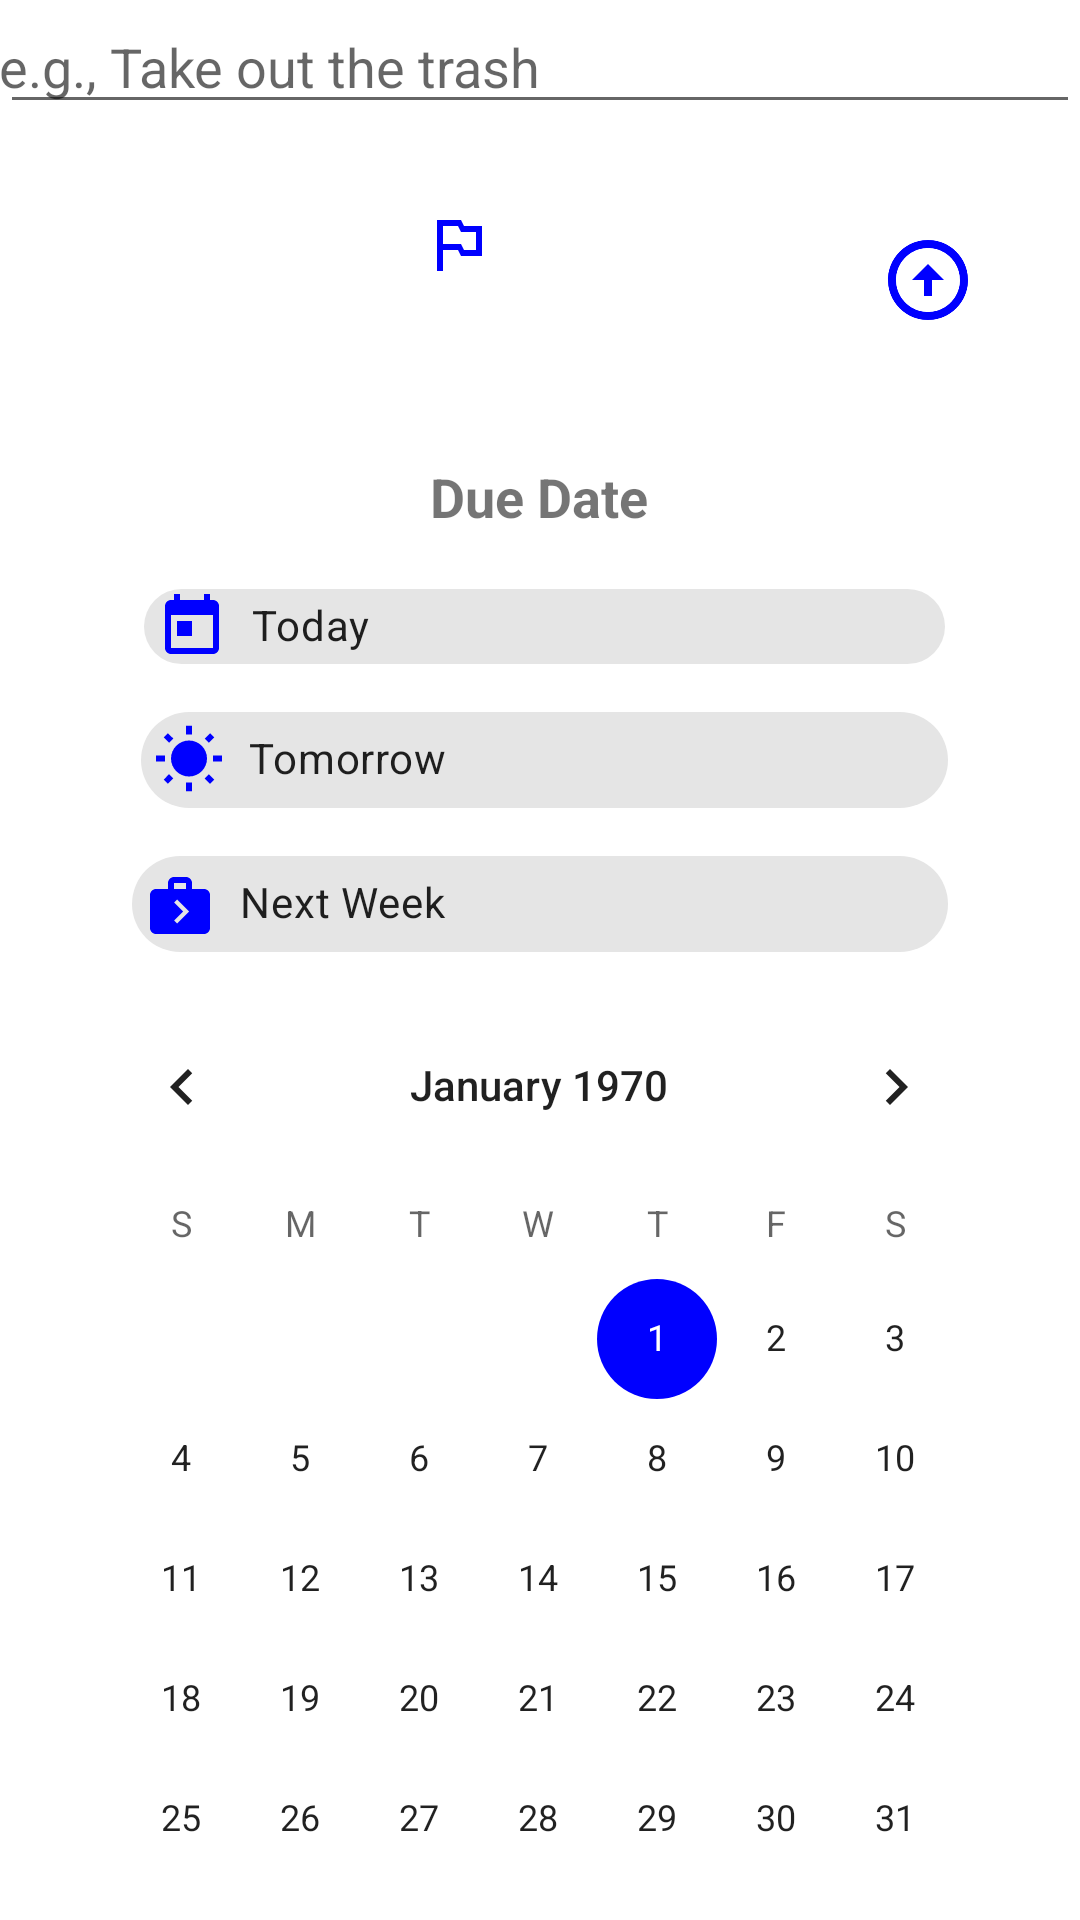

Icons on this 1080 x 1920 Android screen, each with its box as (x1, y1, x2, y2):
flag: (437, 220, 482, 271)
